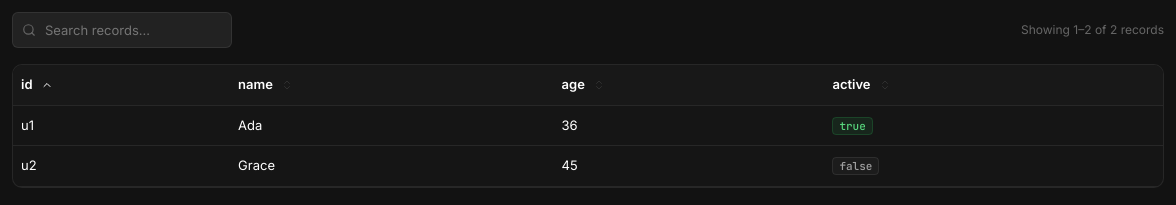
Test case: DataGrid search › filters rows to those matching the query in any column
Type "grace" into the field with placeholder "Search records..." at point(122, 30), box [12, 12, 232, 48]
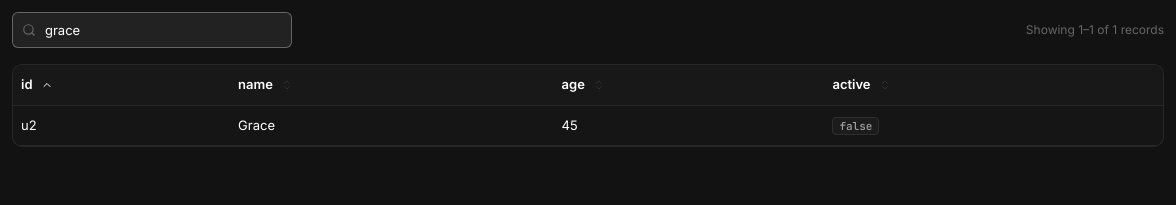
Check: the text "Grace" is shown, box [230, 105, 554, 146]
Check: the text "Ada" is gone
Check: the text "Showing 1–1 of 1 records" is shown, box [1026, 21, 1164, 39]
